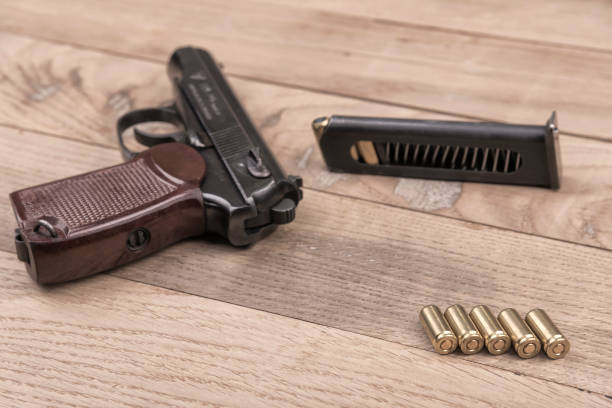gun: (9, 45, 304, 290)
